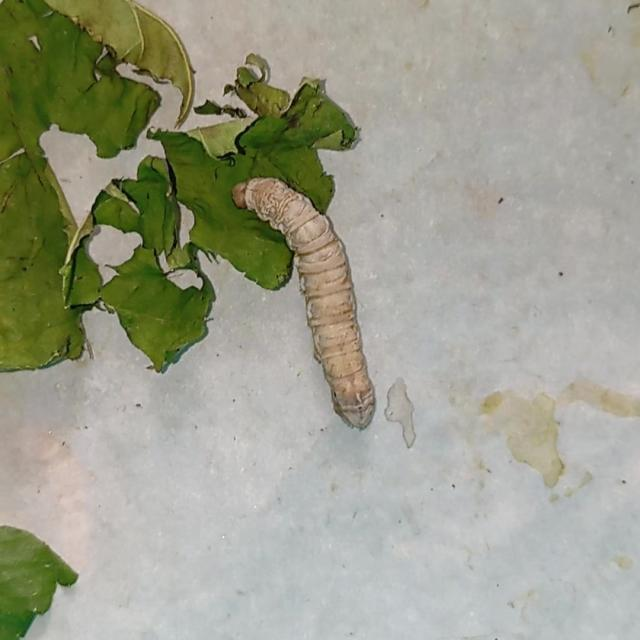Grasserie: (193, 147, 400, 445)
